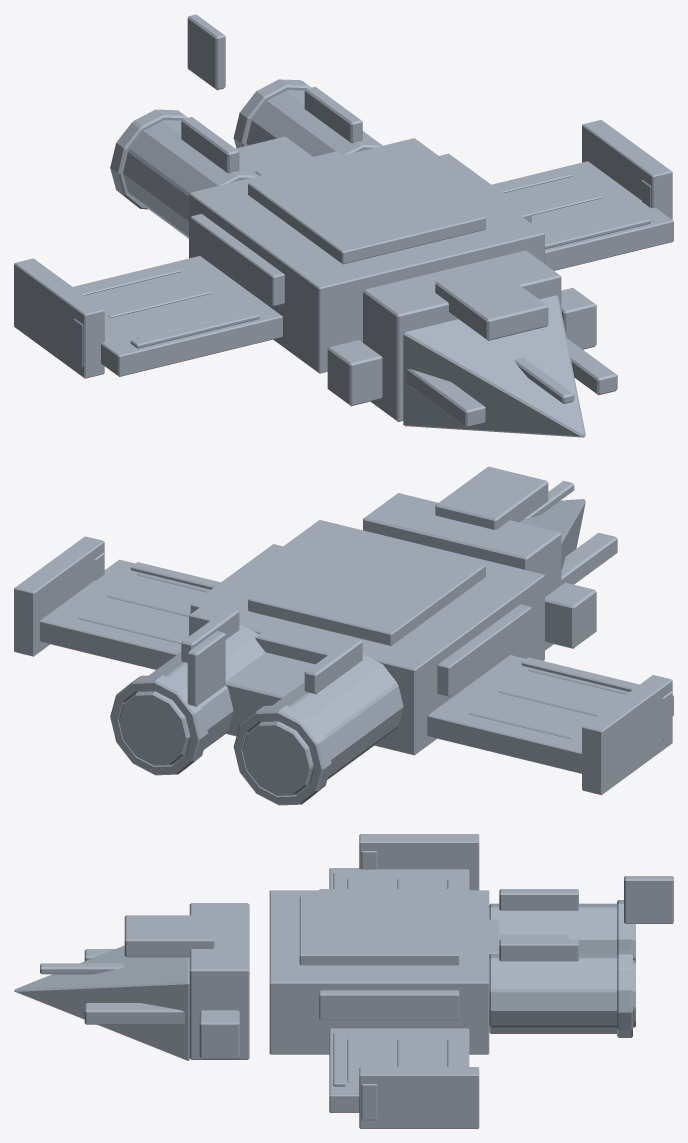
Rendered from Ship_Hero.fbx.
3 renders of one model, top to bottom at view 1: azimuth 30°, elevation 25°; view 2: azimuth 150°, elevation 25°; view 3: azimuth 270°, elevation 25°, orthographic. The views are drawn at different scales.
Visible parts, largest first — view 1: Ship_Body, Ship_Nose, Ship_Engine; view 2: Ship_Body, Ship_Engine, Ship_Nose; view 3: Ship_Body, Ship_Nose, Ship_Engine.
Part boxes in pixels (x1=…): Ship_Body: x1=14, y1=120, x2=673, y2=378; Ship_Nose: x1=327, y1=250, x2=617, y2=437; Ship_Engine: x1=110, y1=14, x2=382, y2=238; Ship_Body: x1=14, y1=520, x2=673, y2=795; Ship_Engine: x1=110, y1=607, x2=403, y2=805; Ship_Nose: x1=363, y1=466, x2=617, y2=650; Ship_Body: x1=269, y1=834, x2=499, y2=1128; Ship_Nose: x1=14, y1=903, x2=249, y2=1060; Ship_Engine: x1=489, y1=876, x2=673, y2=1037.
Bounding box in the file's own units: 287 × 84.31 × 330.
